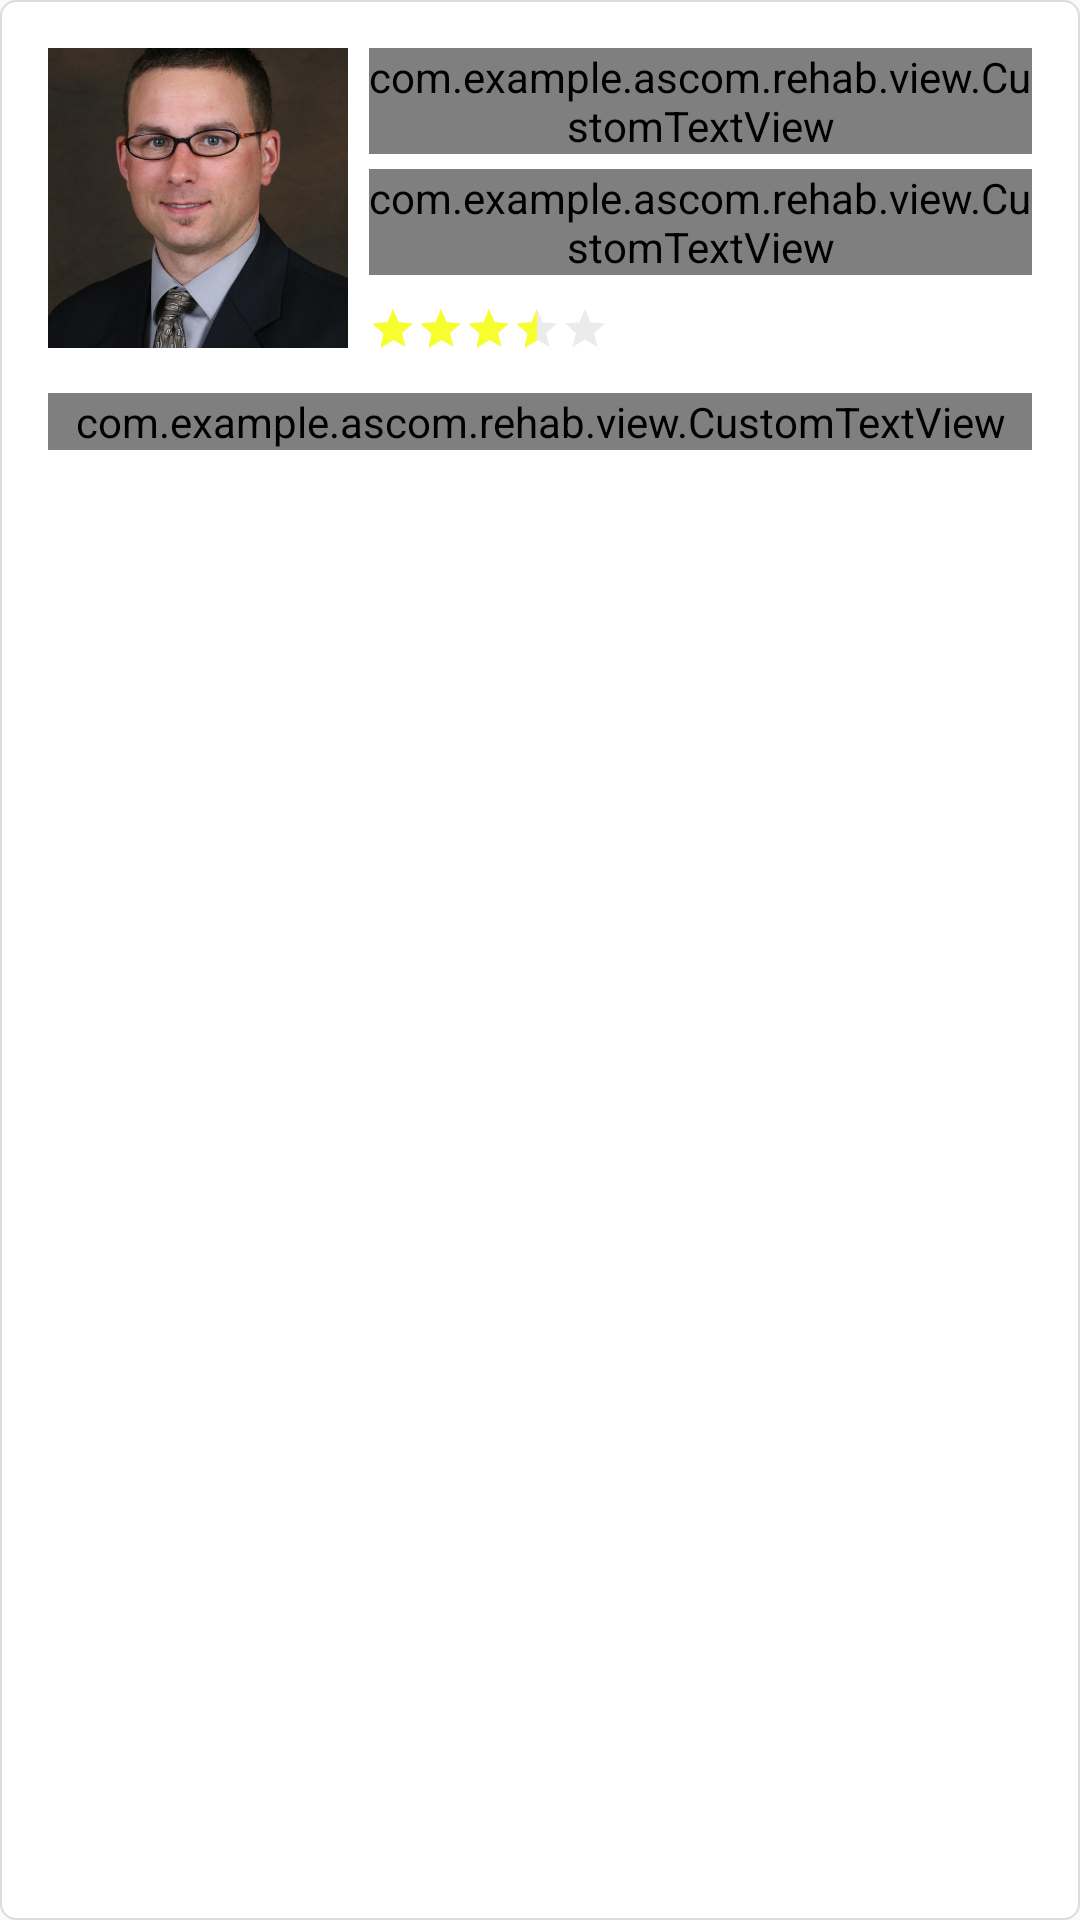

Icon click points for this 1080px×1920px phone screenshot, format point (x, y):
profile: point (198, 198)
